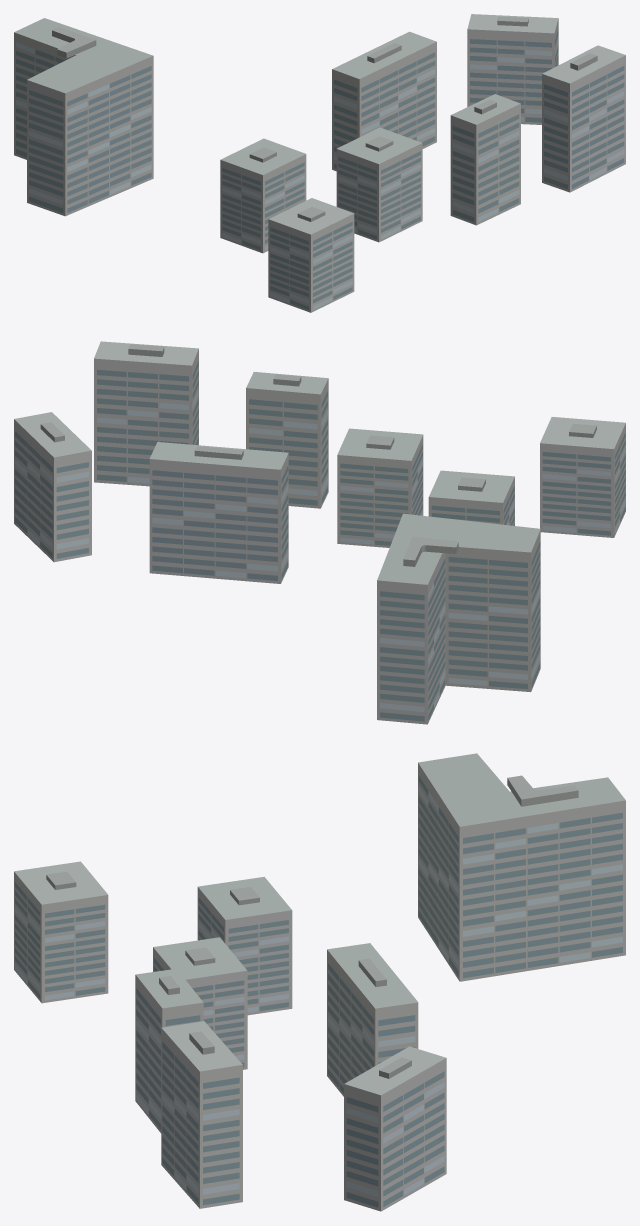
The model's file is apt-a15807003.glb.
3 renders of one model, top to bottom at view 1: azimuth 30°, elevation 25°; view 2: azimuth 150°, elevation 25°; view 3: azimuth 270°, elevation 25°, orthographic. The views are drawn at different scales.
Visible parts, largest first — view 1: apt-a15807003; view 2: apt-a15807003; view 3: apt-a15807003.
Boxes of the visible parts, x1,y1,x2,y2 form: apt-a15807003: (14, 14, 625, 312); apt-a15807003: (14, 341, 625, 724); apt-a15807003: (14, 753, 625, 1211).
Size of the model in its own units: 176 by 44 by 150.
